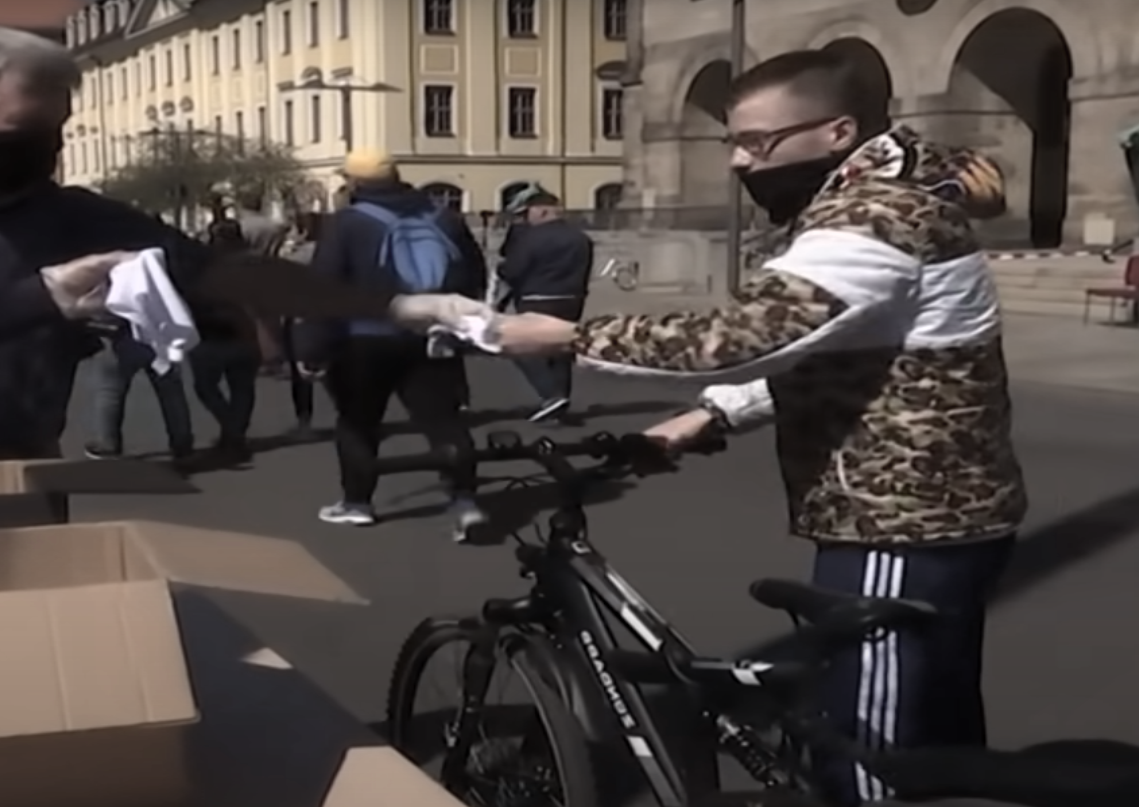mask_weared_incorrect: (715, 47, 886, 222)
